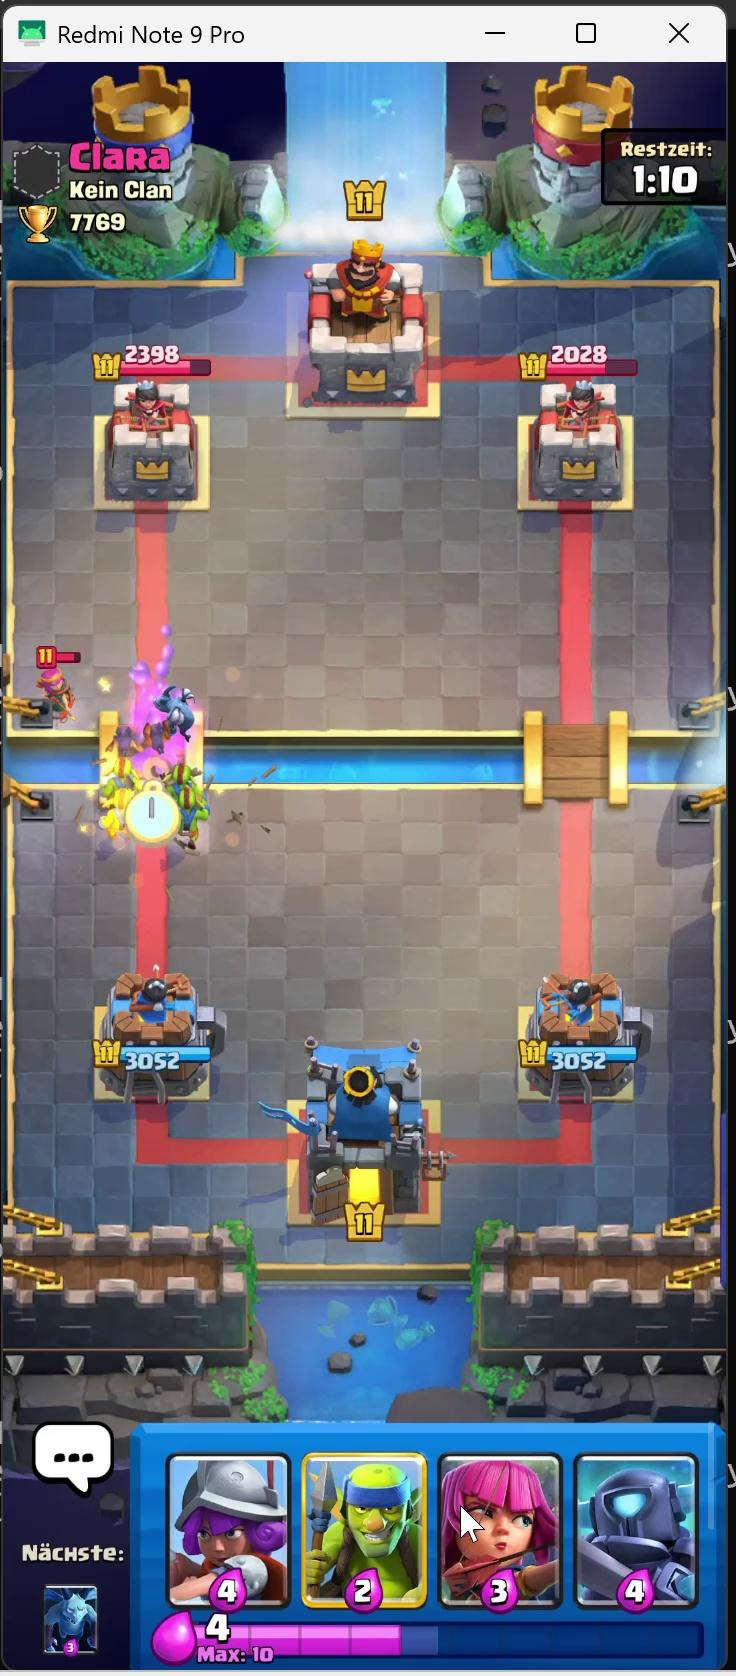archere: (40, 657, 78, 714)
bat: (111, 729, 143, 756), (143, 720, 168, 755)
gargouille: (157, 692, 200, 741)
gobelin: (104, 787, 139, 853), (173, 789, 209, 844), (160, 761, 205, 797), (108, 757, 143, 792)
